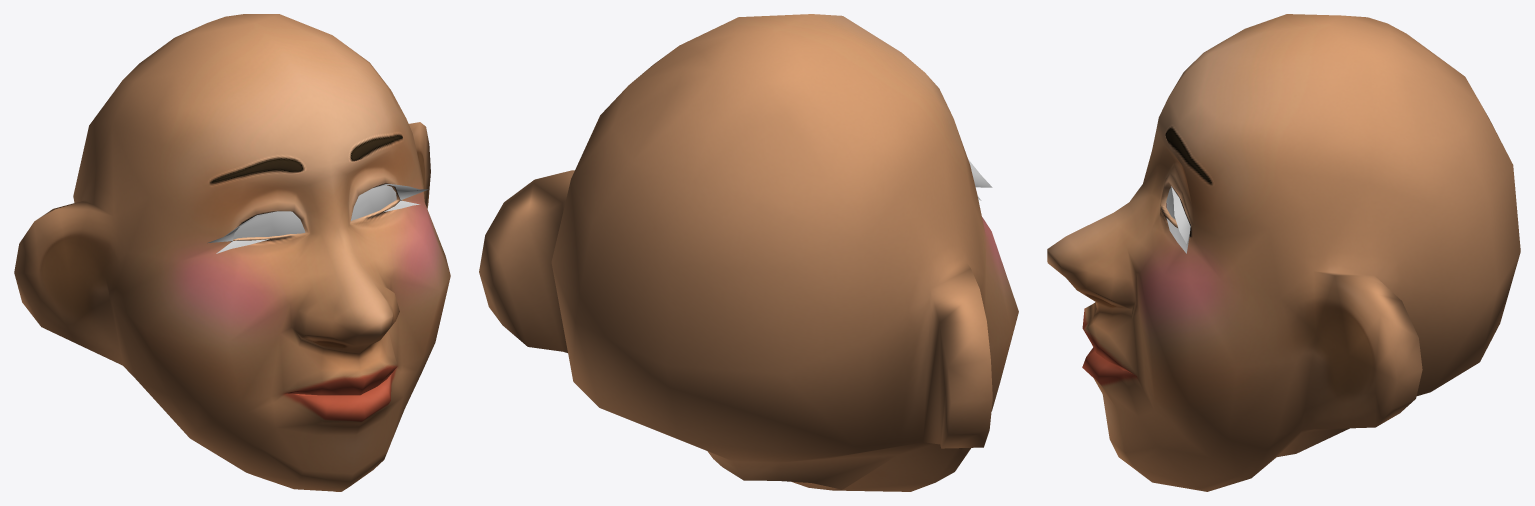
File: F_sitpose02.fbx
The picture shows the model from 3 angles, left to right: view 1: azimuth 30°, elevation 25°; view 2: azimuth 150°, elevation 25°; view 3: azimuth 270°, elevation 25°; orthographic projection. The views are drawn at different scales.
Parts seen in each view (by area): view 1: HEAD; view 2: HEAD; view 3: HEAD.
Part boxes in pixels (x1,y1,x2,y2): HEAD: (14, 14, 450, 491); HEAD: (479, 14, 1018, 491); HEAD: (1047, 14, 1520, 491).
Bounding box in the file's own units: 27.45 × 25.73 × 24.63.
